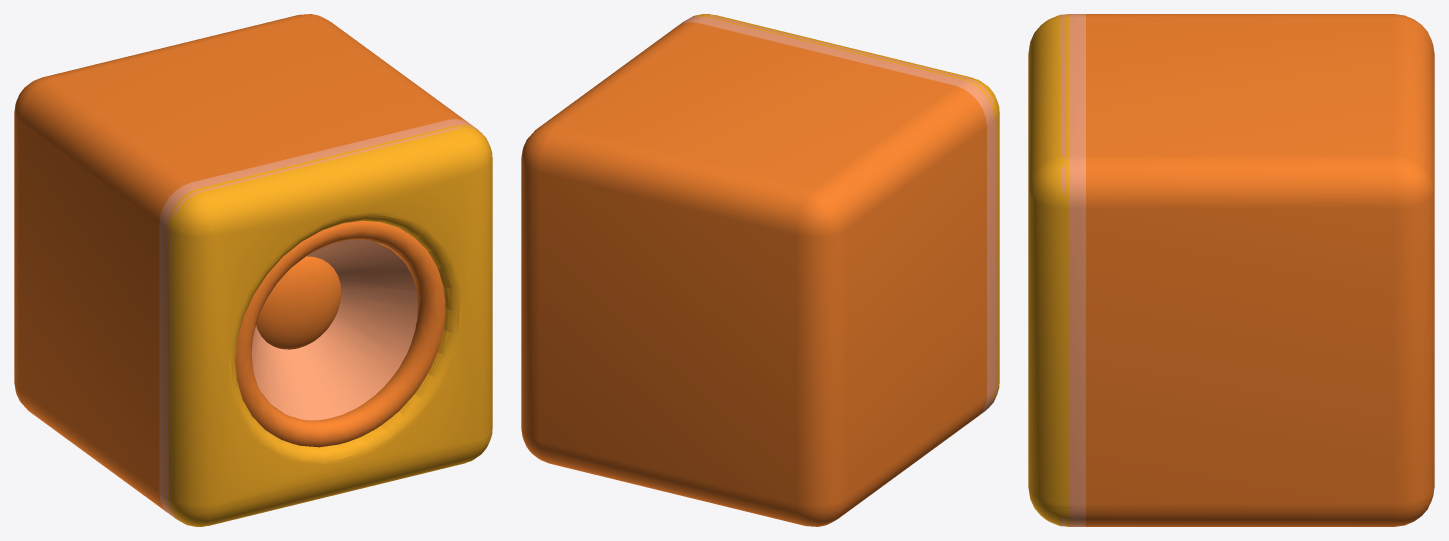
Rendered from speaker.glb.
3 views of the same model, side by side, from view 1: azimuth 30°, elevation 25°; view 2: azimuth 150°, elevation 25°; view 3: azimuth 270°, elevation 25° (orthographic). The views are drawn at different scales.
Visible parts, largest first — view 1: speaker_high, speaker_mid, speaker_low; view 2: speaker_high, speaker_mid, speaker_low; view 3: speaker_high, speaker_mid, speaker_low.
Part boxes in pixels (bbox=[...]): speaker_high: bbox=[14, 15, 492, 526]; speaker_mid: bbox=[14, 14, 492, 526]; speaker_low: bbox=[168, 125, 492, 526]; speaker_high: bbox=[521, 15, 999, 526]; speaker_mid: bbox=[521, 14, 999, 526]; speaker_low: bbox=[692, 14, 999, 408]; speaker_high: bbox=[1028, 14, 1434, 526]; speaker_mid: bbox=[1028, 14, 1434, 526]; speaker_low: bbox=[1028, 14, 1085, 526].
Bounding box in the file's own units: 6 × 6 × 6.
Materials: 1 (1 with a texture image).
